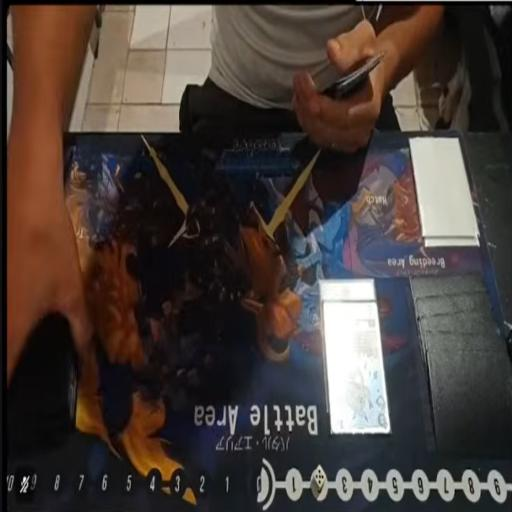card: (321, 300, 394, 434), (318, 277, 380, 309)
